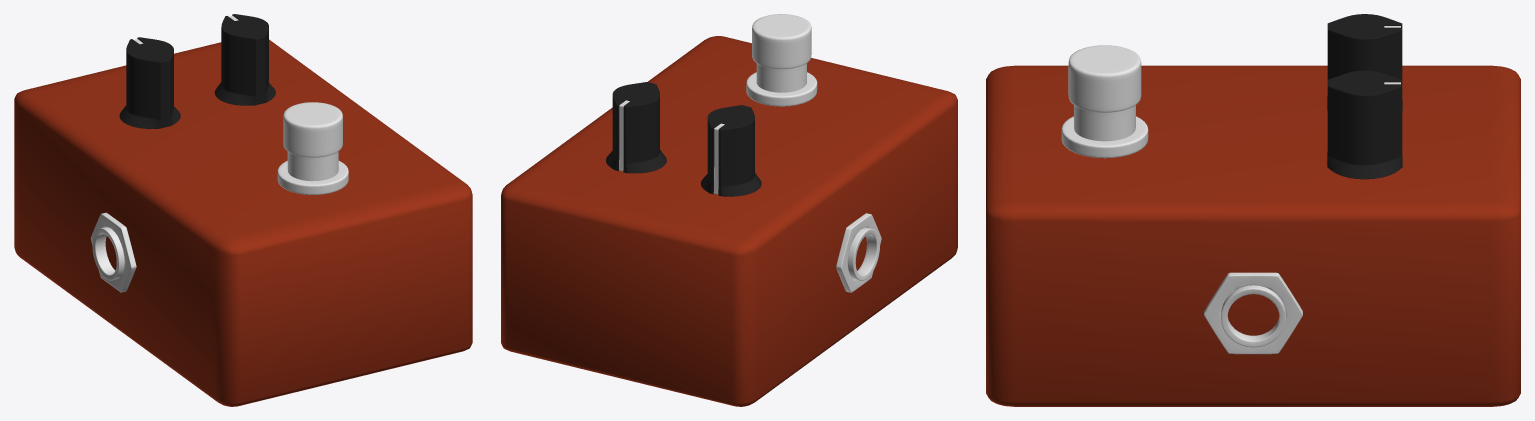
File: pedal.glb
3 views of the same model, side by side, from view 1: azimuth 30°, elevation 25°; view 2: azimuth 150°, elevation 25°; view 3: azimuth 270°, elevation 25° (orthographic). The views are drawn at different scales.
Visible parts, largest first — view 1: Body, Knob, StompButton, Input; view 2: Body, Knob, StompButton, Input; view 3: Body, Knob, StompButton, Input.
Part boxes in pixels (x1,y1,x2,y2): Body: (14,39,472,406); Knob: (119,14,275,128); StompButton: (277,102,348,194); Input: (90,212,136,292); Body: (501,36,957,406); Knob: (606,82,761,196); StompButton: (746,14,817,106); Input: (836,213,881,292); Body: (986,65,1520,406); Knob: (1327,14,1402,179); StompButton: (1061,45,1148,158); Input: (1204,272,1302,354).
Size of the model in its own units: 0.0869 by 0.07 by 0.12.
